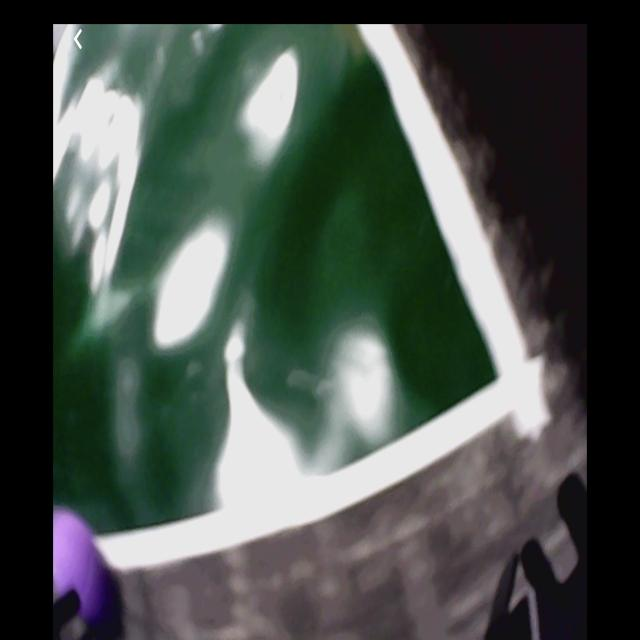ball: (53, 506, 105, 625)
